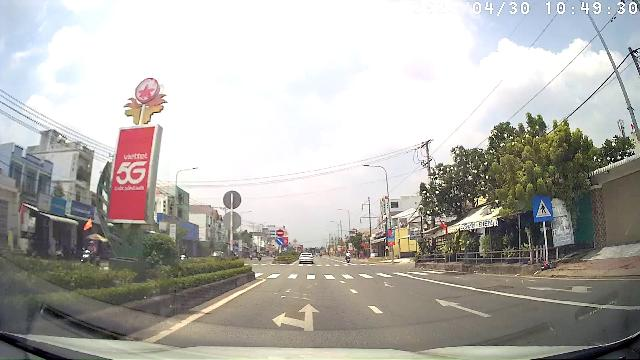102-cam-di-nguoc-chieu: (276, 229, 284, 237)
302a-huong-phai-di-vong-chuong-ngai-vat-1: (276, 237, 284, 245)
423a-duong-nguoi-di-bo-sang-ngang-1: (533, 195, 553, 221)
